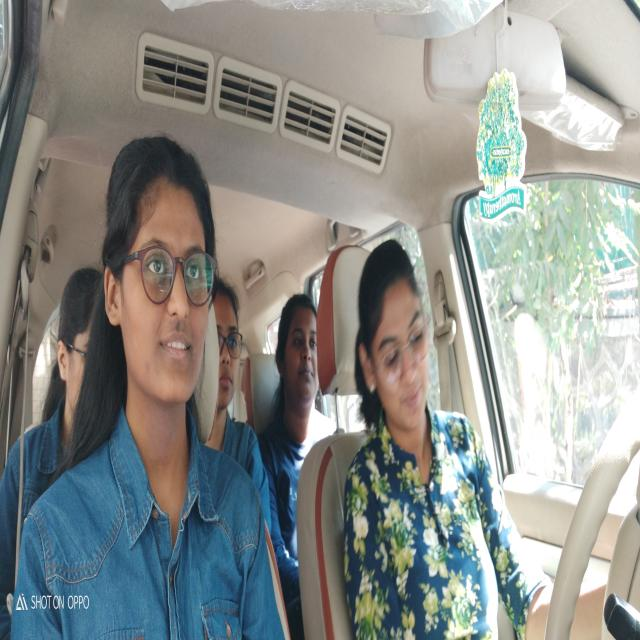drowsy: (357, 262, 430, 433)
person: (108, 152, 210, 401), (276, 292, 321, 406), (216, 284, 242, 404), (59, 278, 82, 403)
